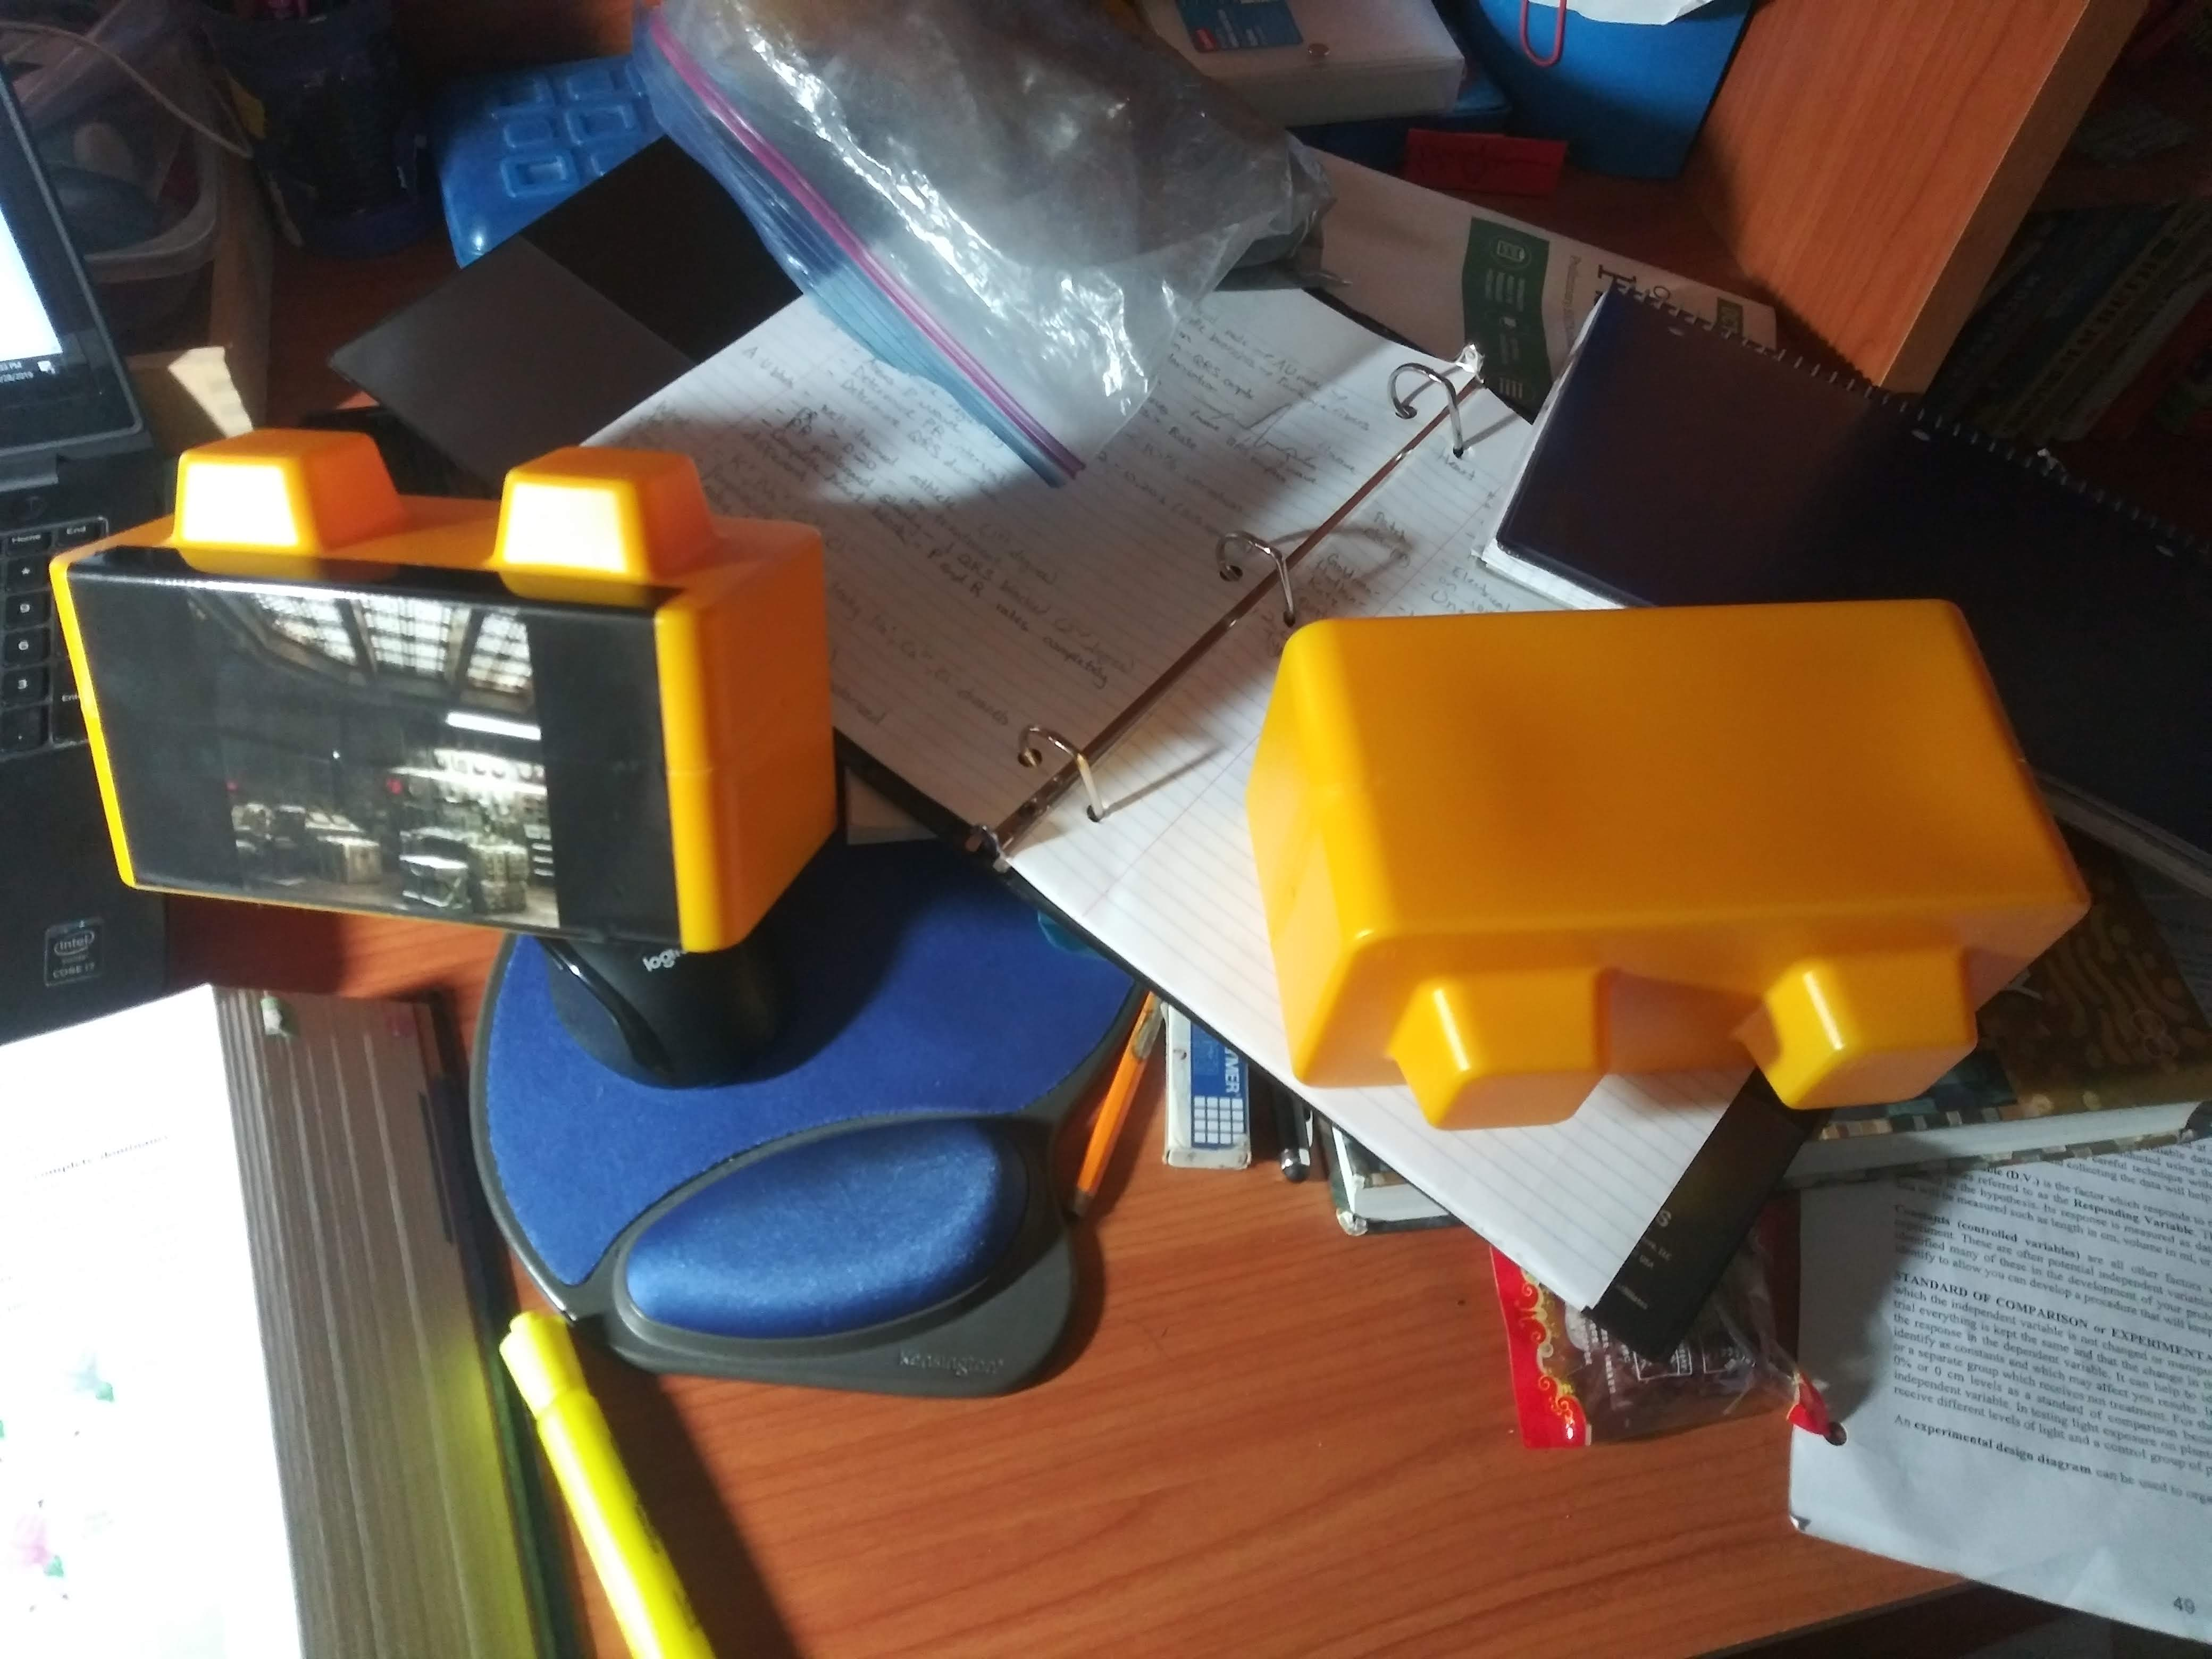skystone: (66, 497, 812, 936)
stone: (1266, 613, 2055, 1108)
